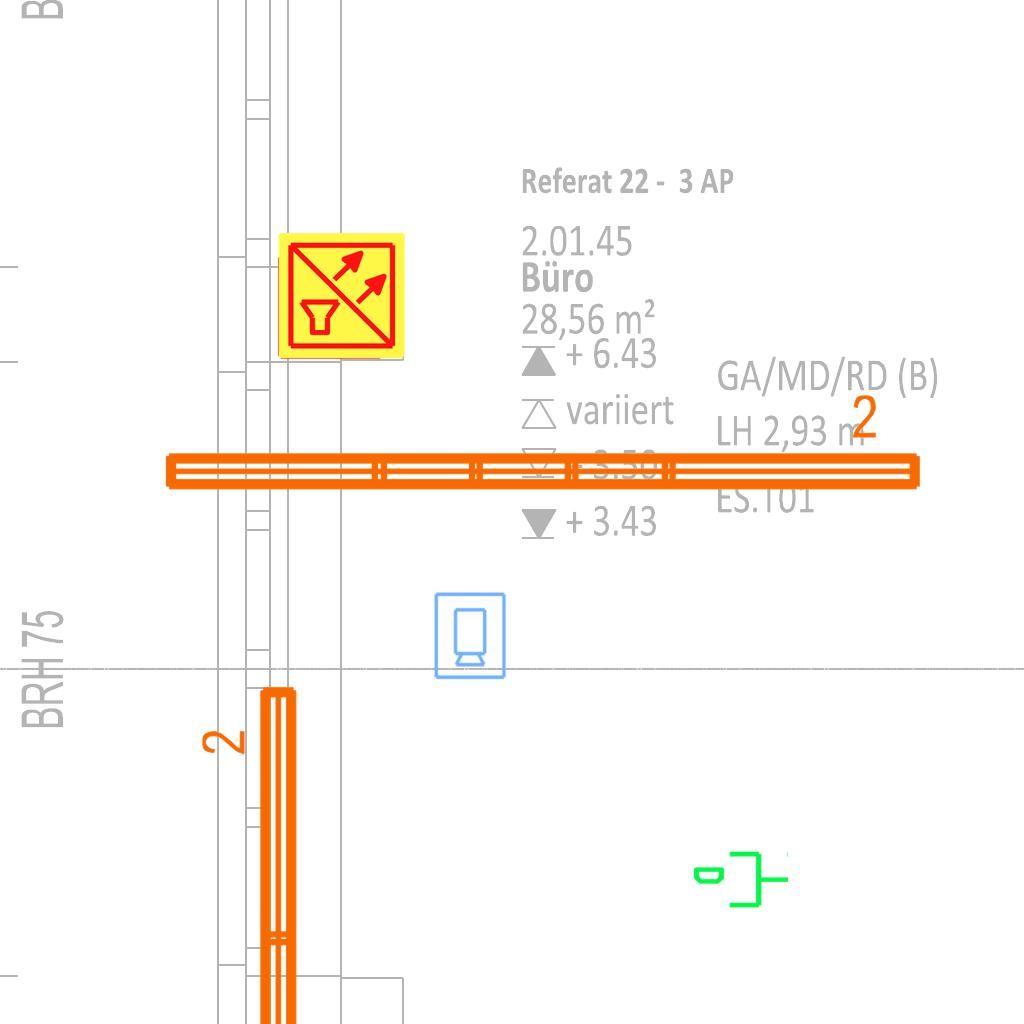Ambulanz_Pendelleuchte_LED: (155, 390, 929, 502), (197, 678, 309, 1024)
Datenanschluss_einfach: (691, 847, 791, 916)
KFO_Kamera_mit_Festobjektiv: (431, 590, 508, 681)
OKW_Multisensormelder_(Kombination_optischer_Rauch-Kahlenmonoxid_Waerme-Melder): (276, 230, 408, 362)
